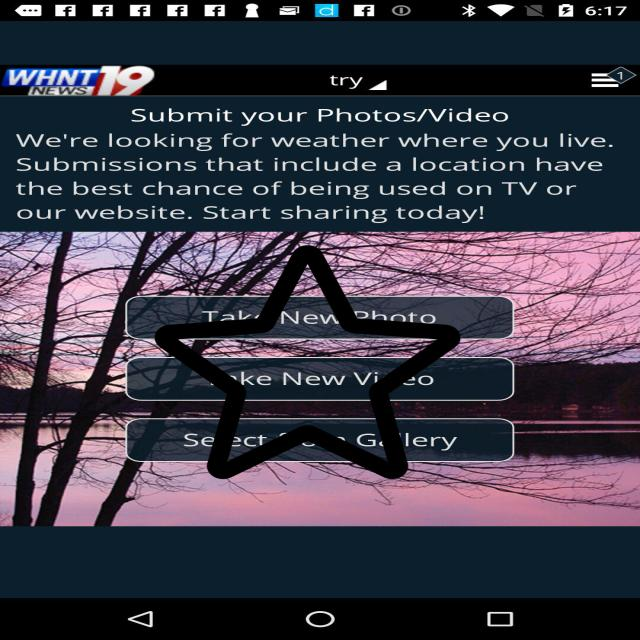forced continuity: (154, 240, 460, 484)
